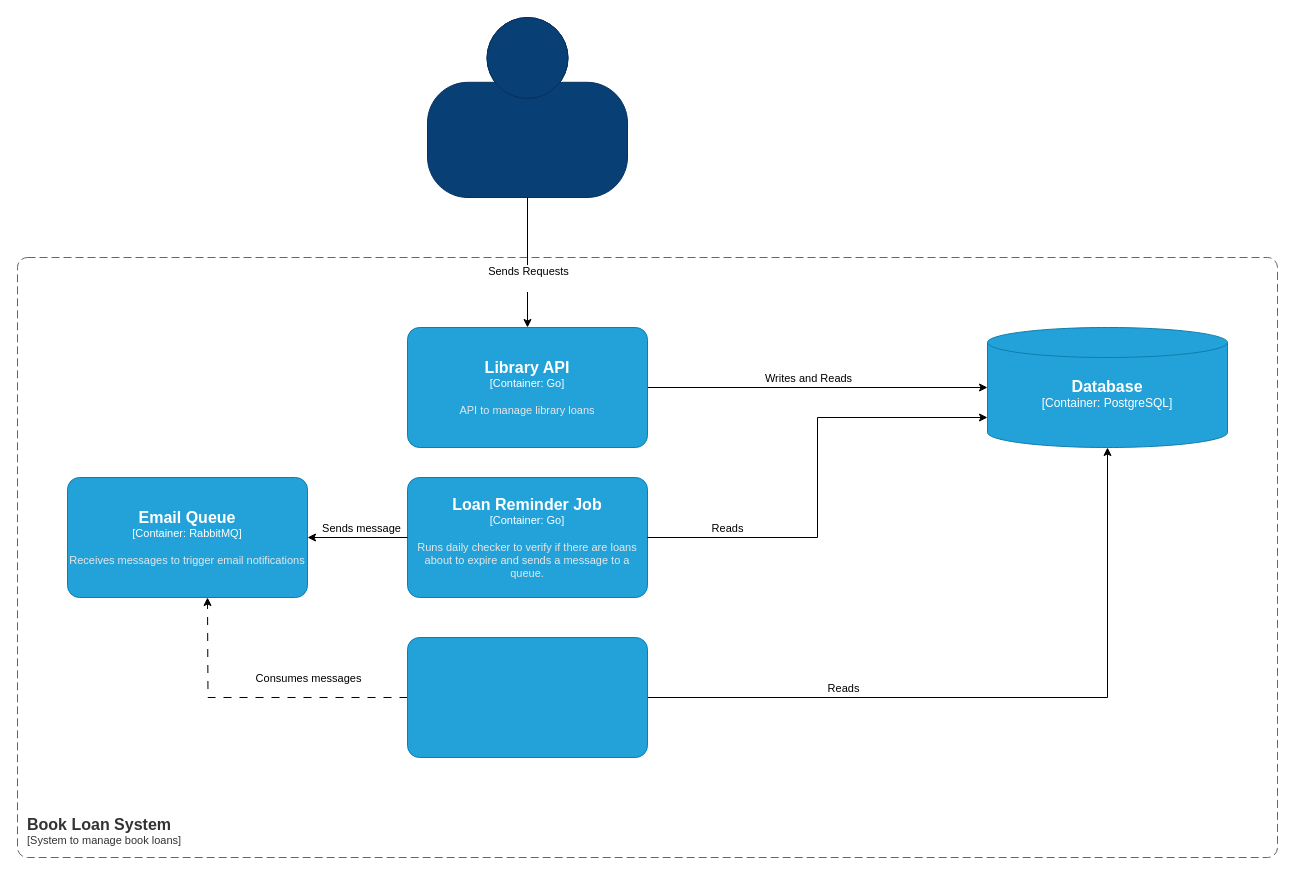
This 1295x875 diagram has some shape labels left out. The shapes that lost their labels are listed below. From the top down, each one's centre as x and y in pixels, then its label:
At pixel 527 107: "Client [Person] Any client (other systems, frontend, etc)".
At pixel 527 697: "Email Handler [Container: Go] Sends email to client".
